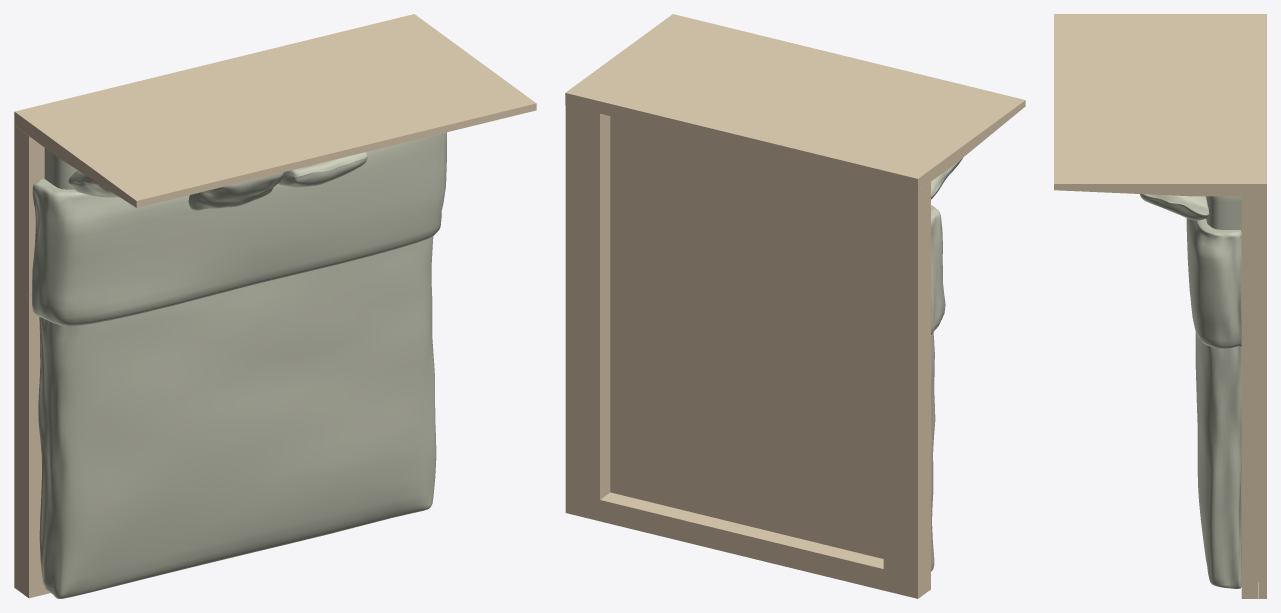
Rendered from pat1.glb.
3 renders of one model, left to right at view 1: azimuth 30°, elevation 25°; view 2: azimuth 150°, elevation 25°; view 3: azimuth 270°, elevation 25°, orthographic. The views are drawn at different scales.
Visible parts, largest first — view 1: Node11, Node9, Node4, Node2, Node1, Node5, Node6; view 2: Node10, Node9, Node4, Node3, Node8, Node11; view 3: Node9, Node11, Node3, Node5, Node7.
Boxes of the visible parts, x1,y1,x2,y2 form: Node11: [31, 132, 446, 598]; Node9: [14, 14, 536, 207]; Node4: [14, 125, 50, 598]; Node2: [188, 172, 283, 210]; Node1: [278, 152, 367, 187]; Node5: [44, 148, 77, 189]; Node6: [68, 170, 119, 197]; Node10: [610, 116, 883, 558]; Node9: [565, 14, 1025, 190]; Node4: [883, 182, 930, 598]; Node3: [565, 105, 610, 521]; Node8: [600, 492, 926, 595]; Node11: [931, 205, 945, 571]; Node9: [1054, 14, 1266, 196]; Node11: [1186, 218, 1241, 588]; Node3: [1241, 196, 1266, 598]; Node5: [1206, 196, 1241, 563]; Node7: [1139, 194, 1209, 220].
Size of the model in its own units: 203 by 229 by 107.
